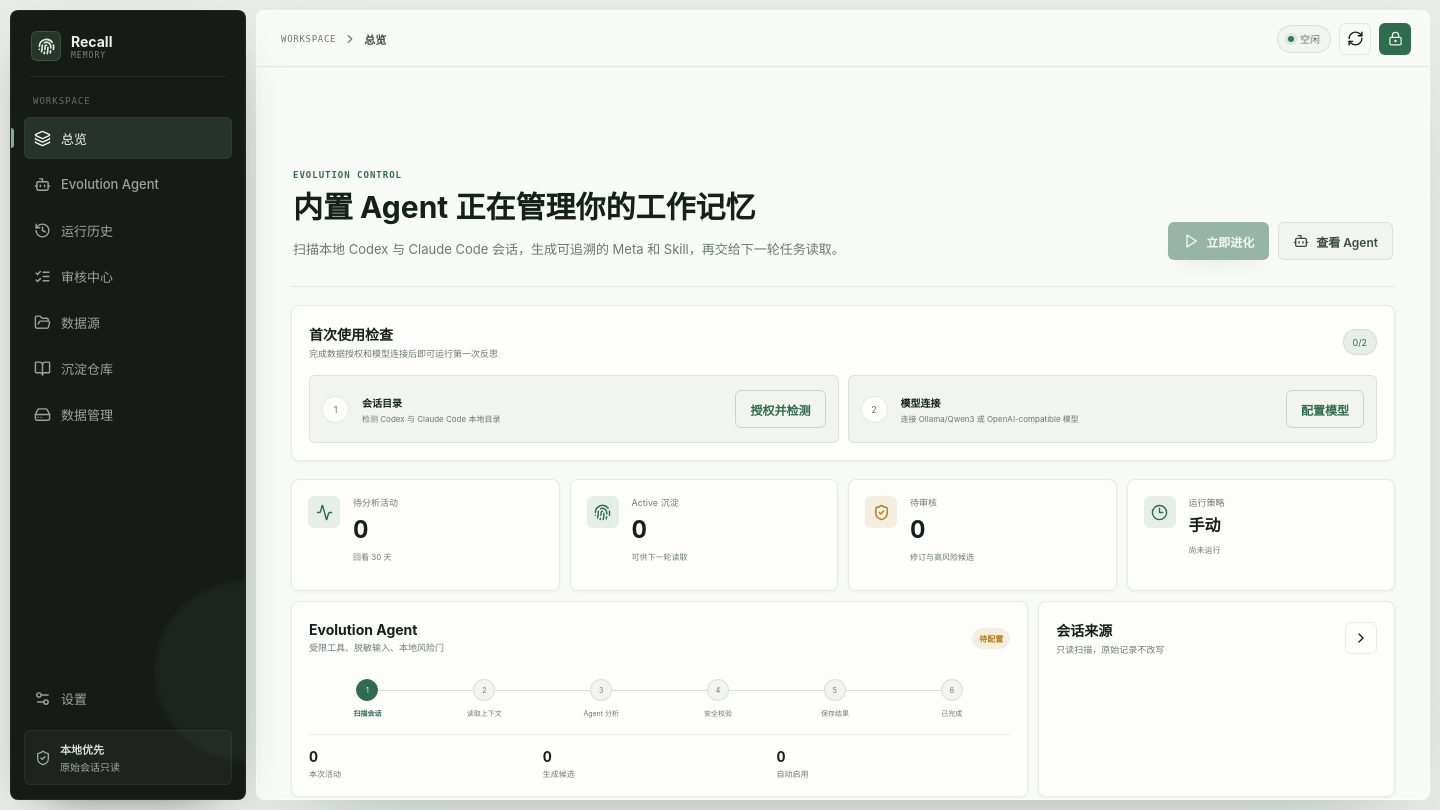
it: Recall Memory Tauri workflows › saves the selected lookback and surfaces structured model errors
Click the button "设置" at x=128, y=698, box [24, 677, 232, 719]
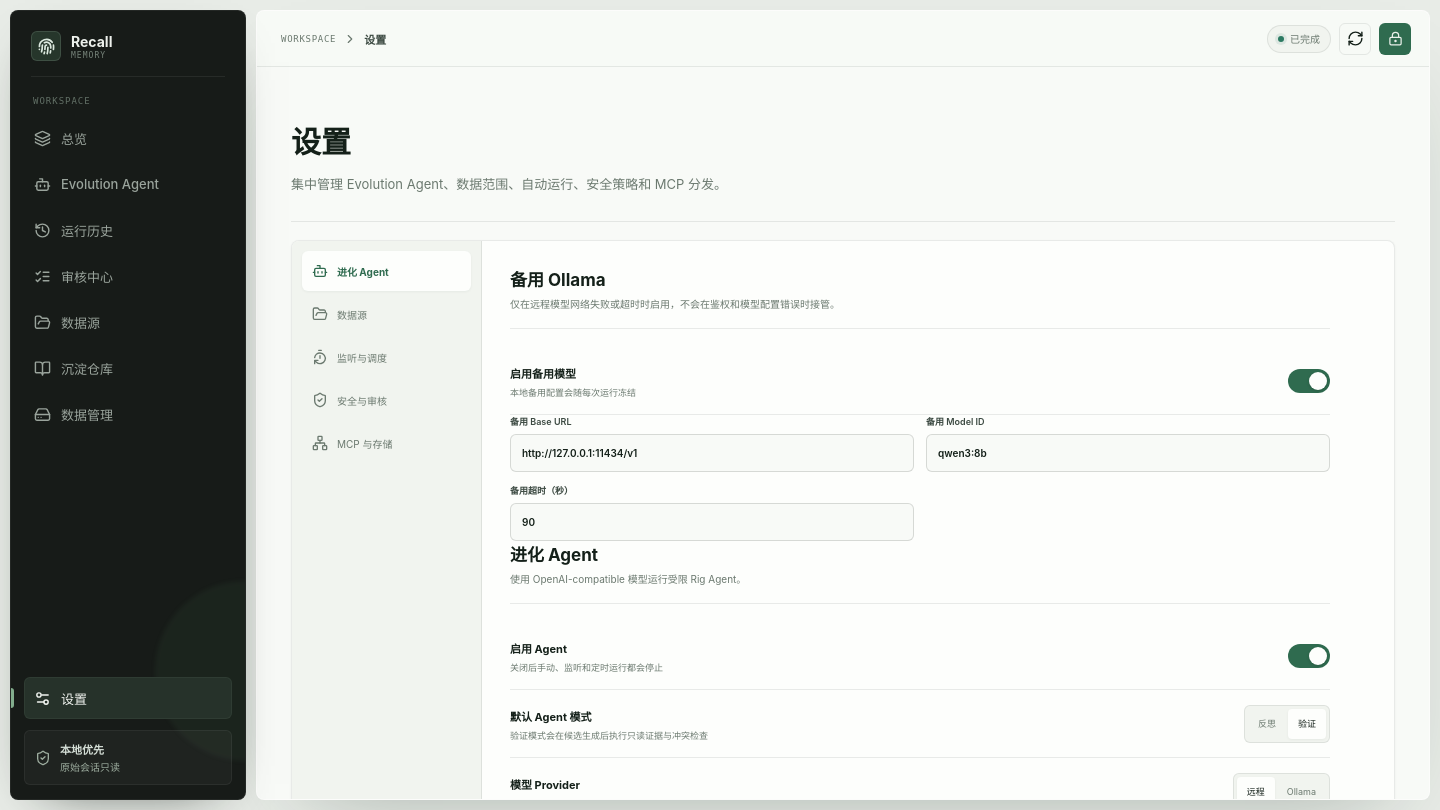
Click the button "数据源" next to "仅在远程模型网络失败或超时时启用，不会在鉴权和模型配置错误时接管。" at x=386, y=314, box [302, 294, 471, 334]
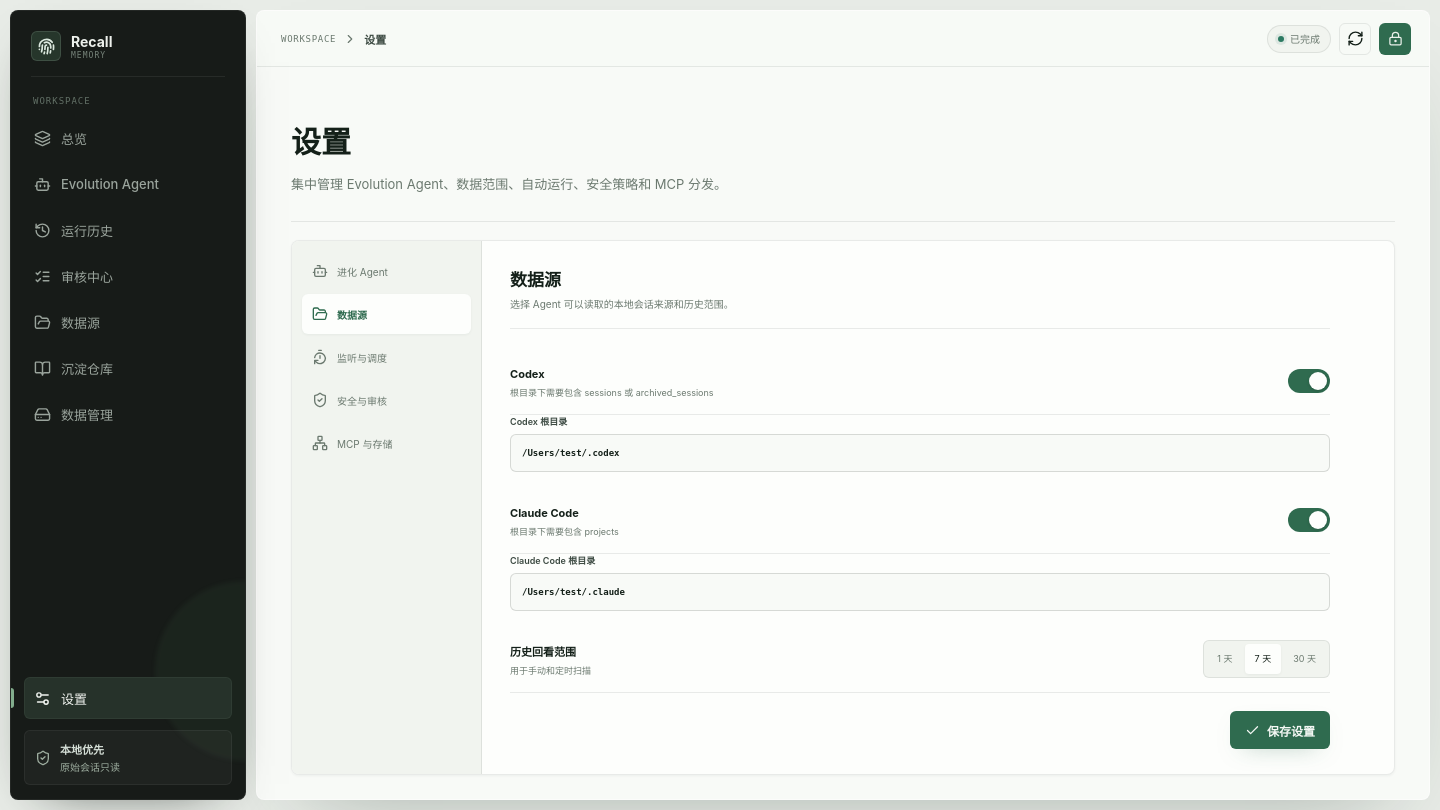
Click the button "30 天" at x=1305, y=658, box [1283, 644, 1326, 674]
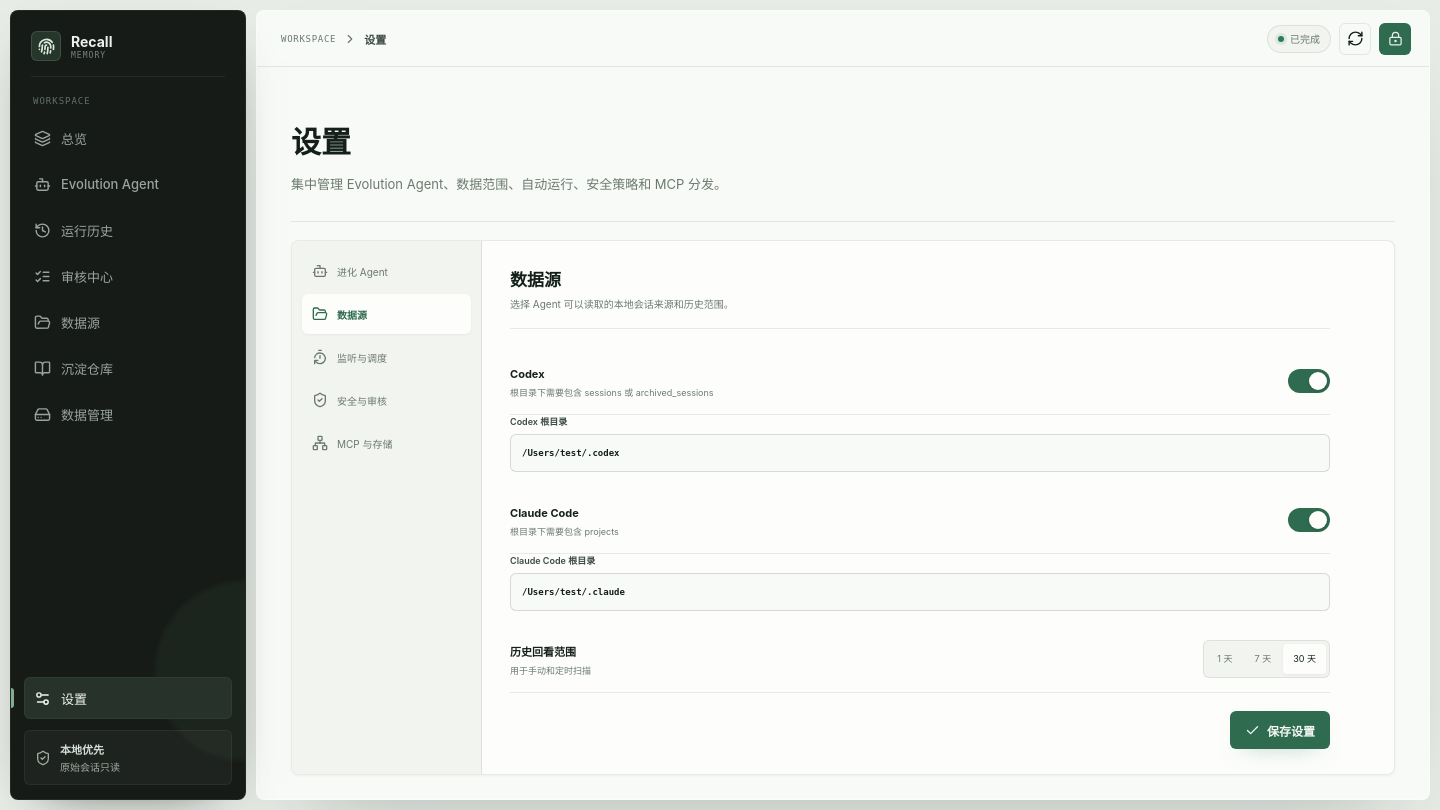
Replace the text in the field labelled "Codex 根目录" with "/Volumes/Agents/codex" at x=920, y=453, box [510, 434, 1330, 472]
Click the button "保存设置" at x=1280, y=730, box [1230, 711, 1330, 749]
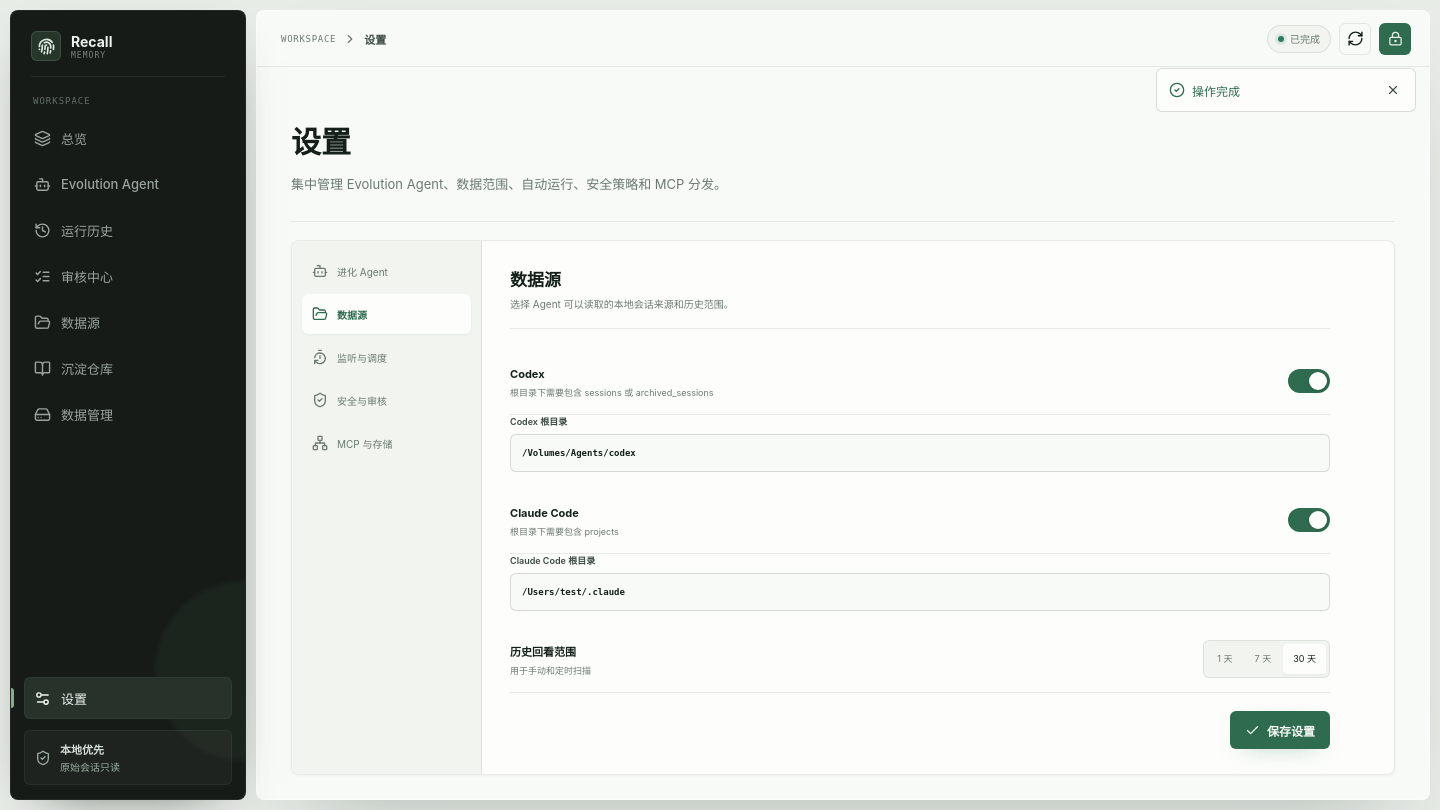
Click the button "进化 Agent" at x=386, y=271, box [302, 251, 471, 291]
(page scrolled)
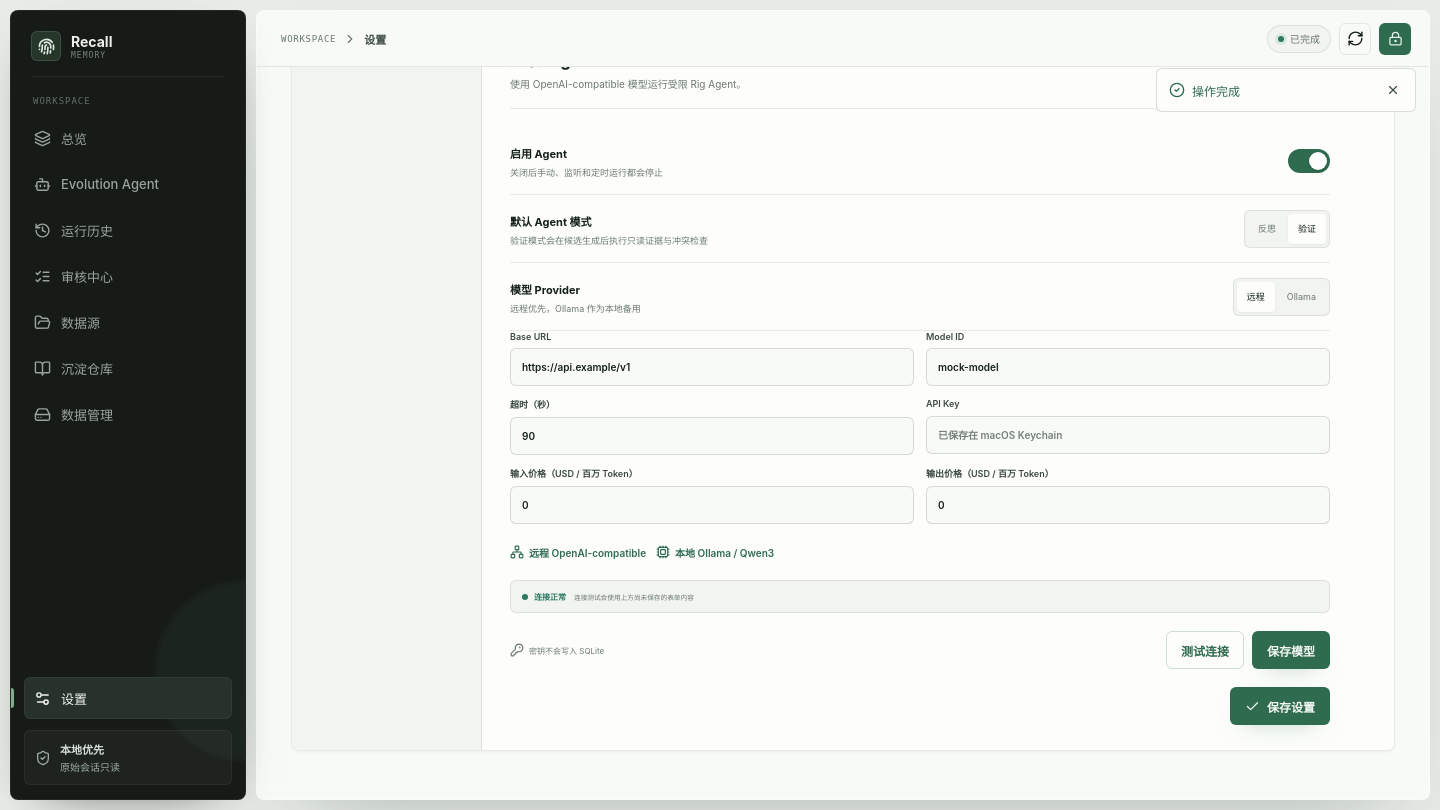
Click the button "测试连接" at x=1205, y=650, box [1166, 631, 1244, 669]
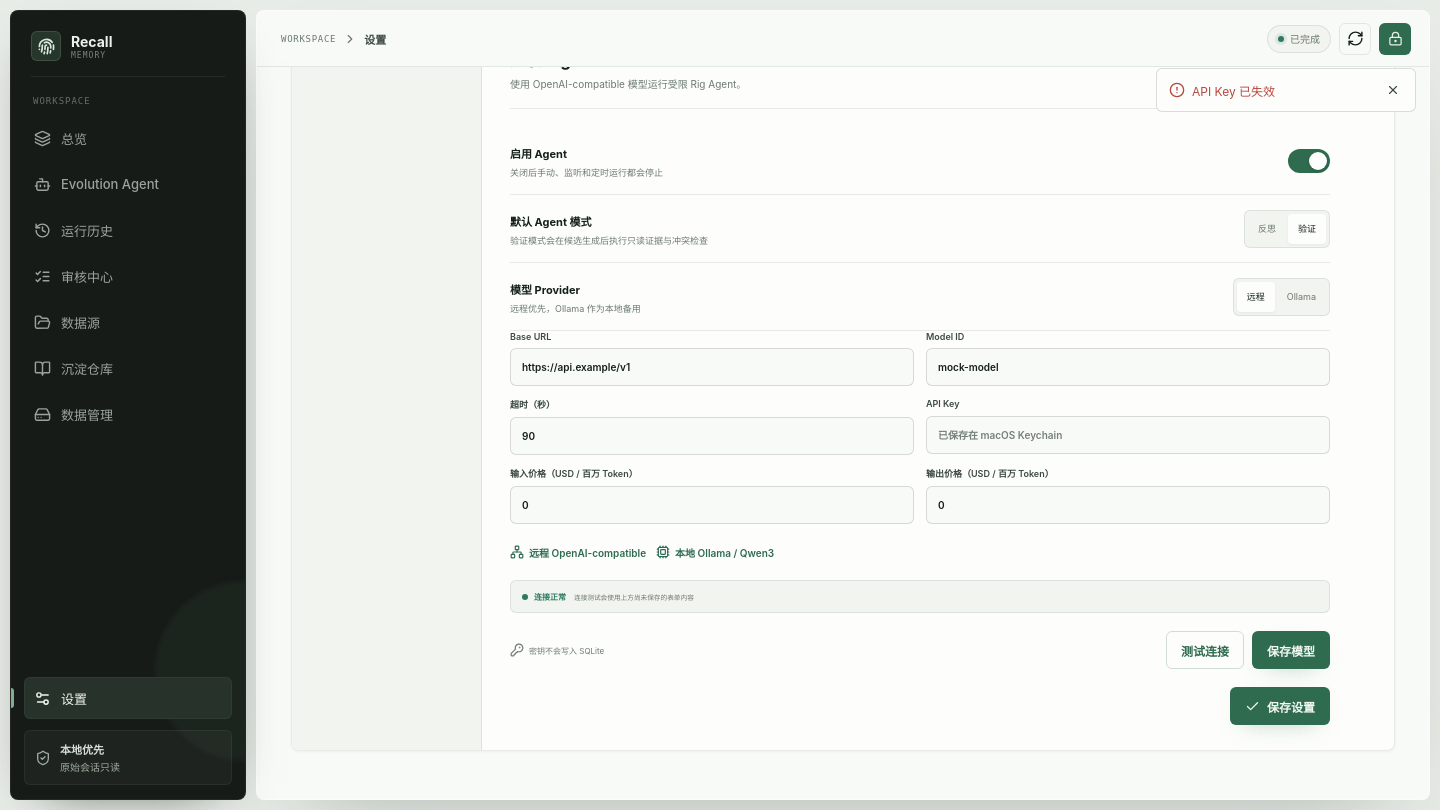
Expected: the text "API Key 已失效" is shown, [1169, 82, 1275, 98]
